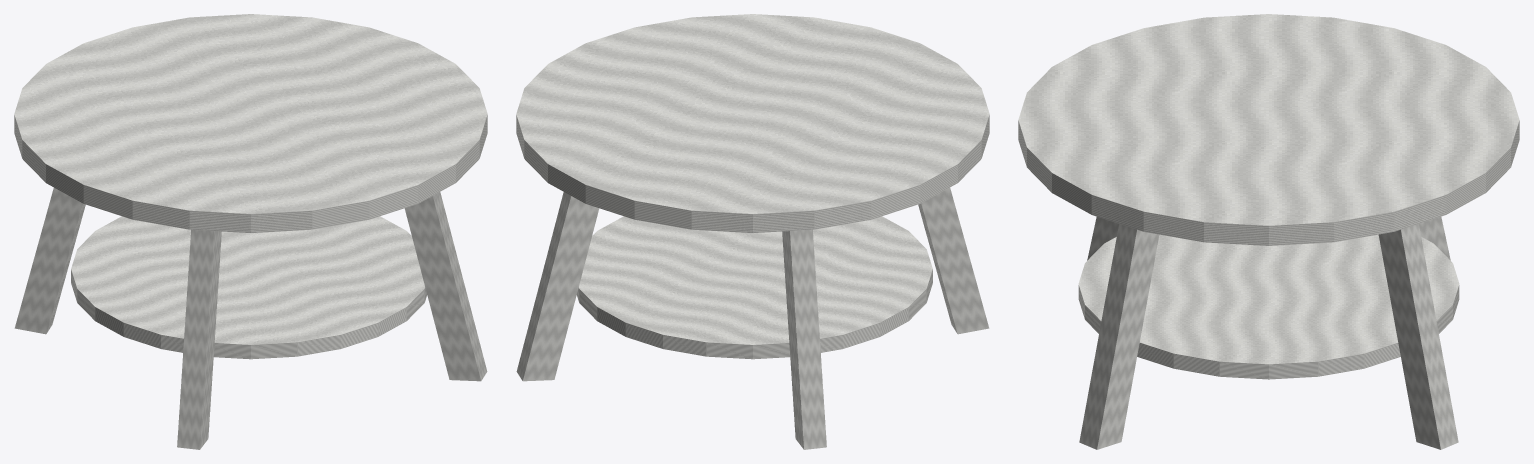
3 renders of one model, left to right at view 1: azimuth 30°, elevation 25°; view 2: azimuth 150°, elevation 25°; view 3: azimuth 270°, elevation 25°, orthographic. The views are drawn at different scales.
Visible parts, largest first — view 1: 1 tabletop, 2 lower_shelf, 4 front_right_leg, 3 front_left_leg, 6 back_left_leg; view 2: 1 tabletop, 2 lower_shelf, 5 back_right_leg, 6 back_left_leg, 3 front_left_leg; view 3: 1 tabletop, 2 lower_shelf, 4 front_right_leg, 5 back_right_leg, 3 front_left_leg, 6 back_left_leg.
Part boxes in pixels (bbox=[...]): 1 tabletop: bbox=[14, 14, 487, 232]; 2 lower_shelf: bbox=[71, 216, 426, 359]; 4 front_right_leg: bbox=[404, 192, 487, 381]; 3 front_left_leg: bbox=[177, 230, 221, 449]; 6 back_left_leg: bbox=[14, 187, 85, 334]; 1 tabletop: bbox=[516, 14, 989, 232]; 2 lower_shelf: bbox=[577, 216, 932, 359]; 5 back_right_leg: bbox=[516, 192, 599, 381]; 6 back_left_leg: bbox=[782, 230, 826, 449]; 3 front_left_leg: bbox=[918, 187, 989, 334]; 1 tabletop: bbox=[1018, 14, 1519, 245]; 2 lower_shelf: bbox=[1078, 234, 1459, 379]; 4 front_right_leg: bbox=[1079, 224, 1159, 449]; 5 back_right_leg: bbox=[1378, 224, 1458, 449]; 3 front_left_leg: bbox=[1087, 217, 1118, 260]; 6 back_left_leg: bbox=[1419, 217, 1450, 260].
Size of the model in its own units: 1.8 by 1 by 1.8.
1 material, 1 textured.
